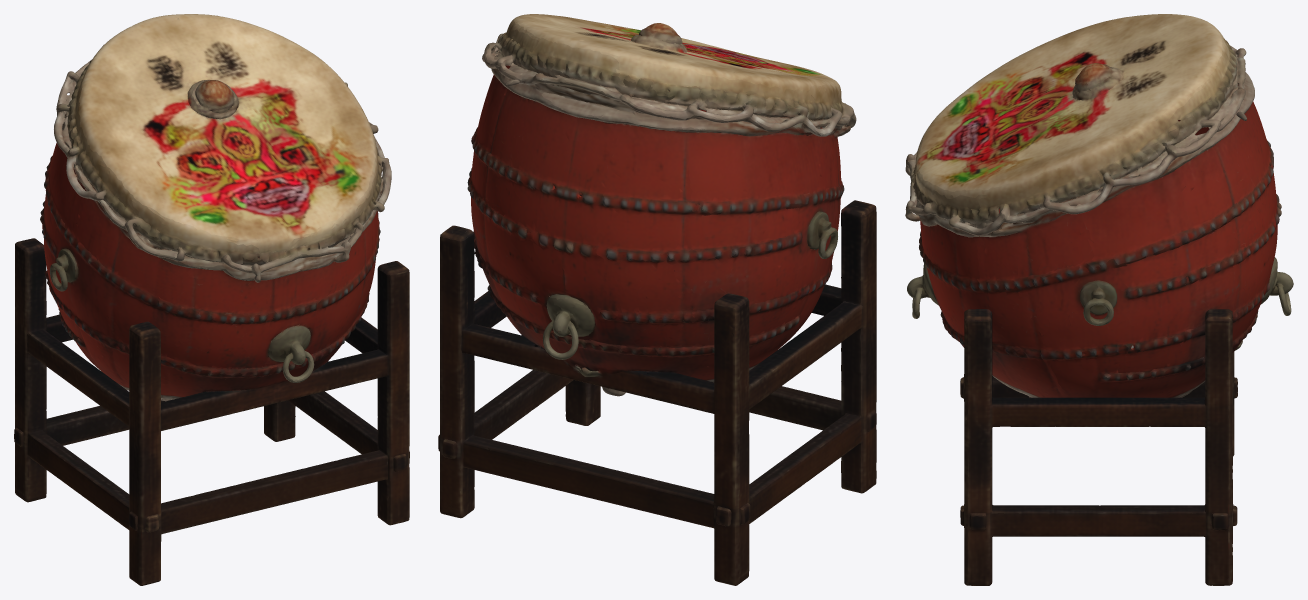
Rendered from drum.glb.
3 renders of one model, left to right at view 1: azimuth 30°, elevation 25°; view 2: azimuth 150°, elevation 25°; view 3: azimuth 270°, elevation 25°, orthographic. The views are drawn at different scales.
Visible parts, largest first — view 1: world; view 2: world; view 3: world.
Boxes of the visible parts, x1,y1,x2,y2 form: world: (14,14,409,585); world: (438,14,876,585); world: (905,14,1293,585).
Bounding box in the file's own units: 0.4546 × 0.62 × 0.4583.
Materials: 1 (1 with a texture image).
